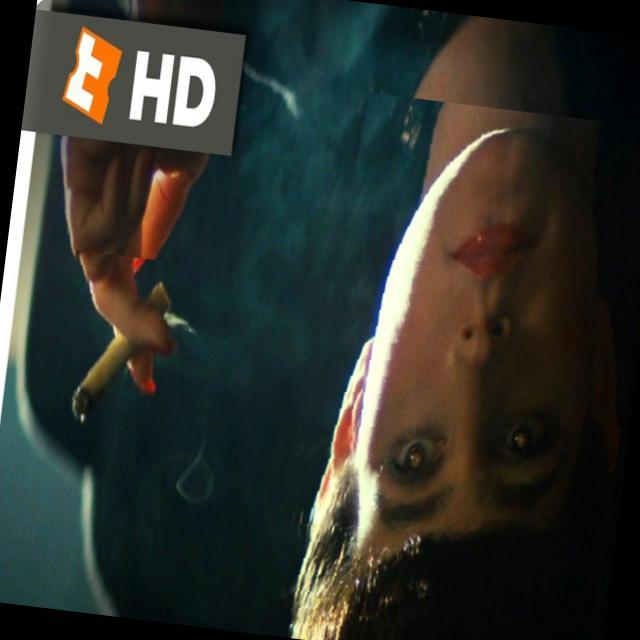cigarette: (52, 250, 200, 456)
